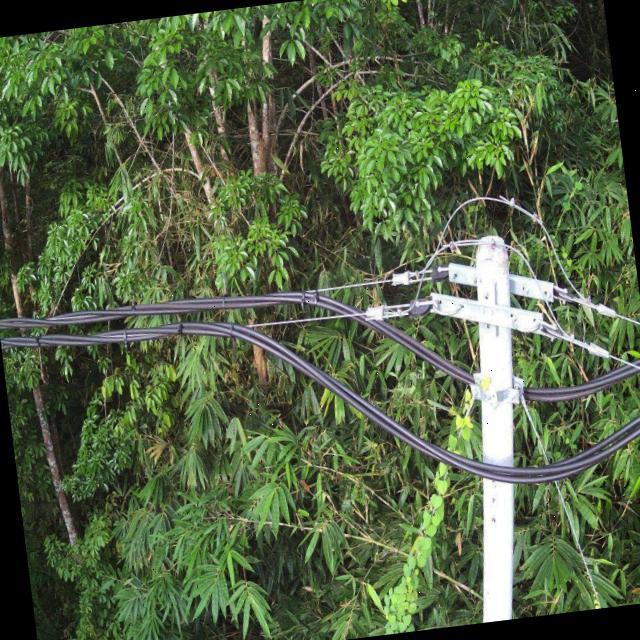critical vegetation: (344, 383, 506, 632)
